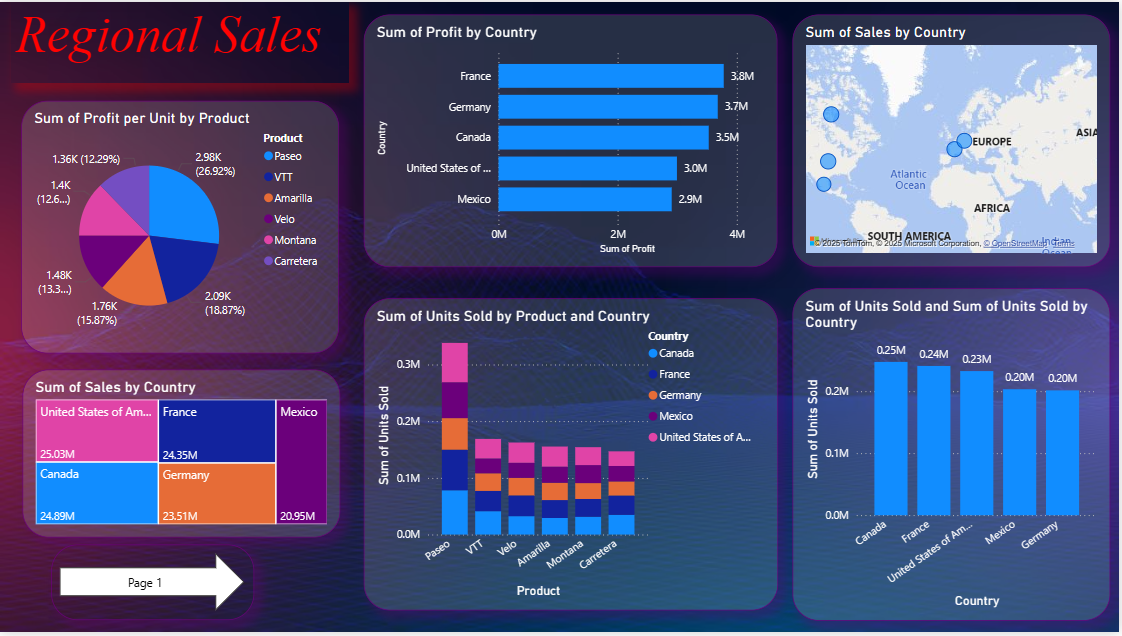

Layout of this report page (visuals, bound fields, positions):
{"tool":"powerbi","page":{"name":"Page 2","canvas":[1280,720],"ordinal":1},"visuals":[{"type":"pieChart","fields":{"Category":["Table2.Product"],"Y":["Sum(Table2.Profit per Unit)"]},"box":[24.3,112.9,362.9,288.6],"z":0},{"type":"textbox","box":[12.9,0,385.7,92.9],"z":1000},{"type":"map","fields":{"Category":["Table2.Country"],"Size":["Sum(Table2. Sales)"]},"box":[905.7,14.3,362.9,288.6],"z":2000},{"type":"barChart","fields":{"Category":["Table2.Country"],"Y":["Sum(Table2.Profit)"]},"box":[415.7,14.3,472.9,288.6],"z":3000},{"type":"columnChart","fields":{"Category":["Table2.Country"],"Y":["Sum(Table2.Units Sold)"]},"box":[905,326.7,363.3,380],"z":4000},{"type":"columnChart","fields":{"Category":["Table2.Product"],"Y":["Sum(Table2.Units Sold)"],"Series":["Table2.Country"]},"box":[415,338.3,473.3,356.7],"z":5000},{"type":"treemap","fields":{"Group":["Table2.Country"],"Values":["Sum(Table2. Sales)"]},"box":[25,420,363.3,191.7],"z":6000},{"type":"pageNavigator","box":[58.3,620,231.7,86.7],"z":7000}]}

Visuals, with their boxes in screenshot pixels (x1, y1, x2, y2), scaled from the page's 1280x720 canvas onto the 1122x636 screenshot:
pieChart - Table2.Product x Sum(Table2.Profit per Unit): [21,100,339,355]
textbox: [11,0,349,82]
map - Table2.Country x Sum(Table2. Sales): [794,13,1112,268]
barChart - Table2.Country x Sum(Table2.Profit): [364,13,779,268]
columnChart - Table2.Country x Sum(Table2.Units Sold): [793,289,1112,624]
columnChart - Table2.Product x Sum(Table2.Units Sold): [364,299,779,614]
treemap - Table2.Country x Sum(Table2. Sales): [22,371,340,540]
pageNavigator: [51,548,254,624]
